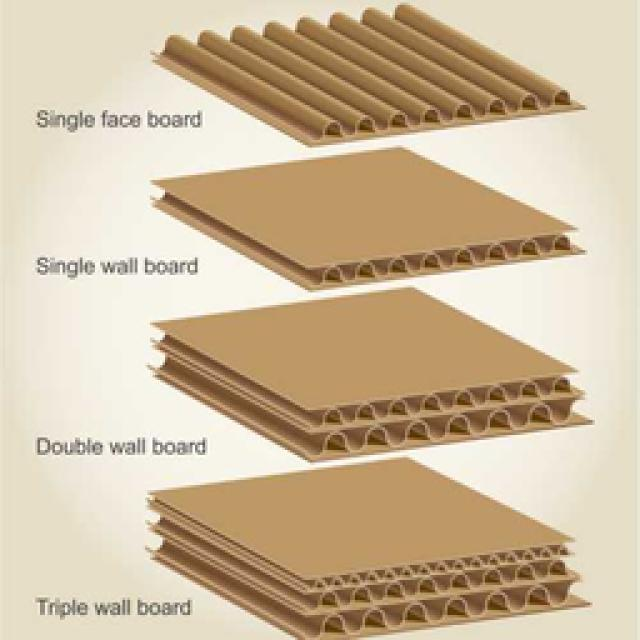cardboard: (148, 458, 580, 638), (150, 288, 585, 458), (152, 148, 578, 288), (155, 5, 580, 145)
